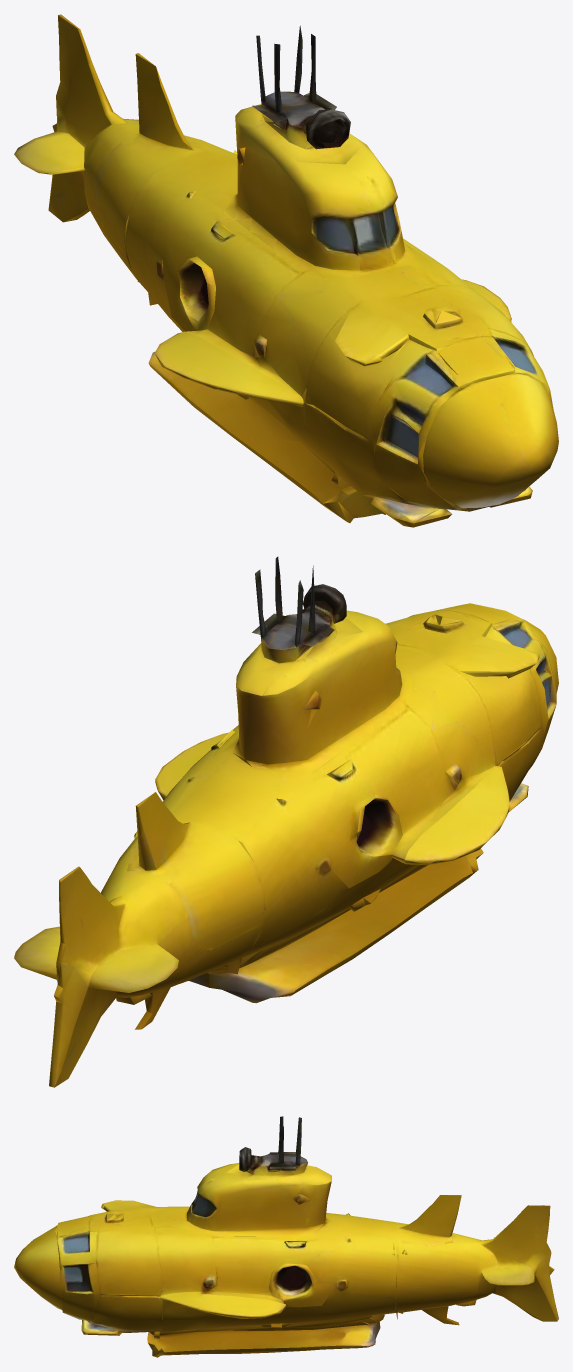
Rendered from miniSubmarine.glb.
3 views of the same model, one above another, from view 1: azimuth 30°, elevation 25°; view 2: azimuth 150°, elevation 25°; view 3: azimuth 270°, elevation 25° (orthographic). The views are drawn at different scales.
Visible parts, largest first — view 1: model; view 2: model; view 3: model.
Part boxes in pixels (x1,y1,x2,y2): model: [14, 14, 558, 527]; model: [14, 556, 558, 1087]; model: [14, 1116, 558, 1357].
Size of the model in its own units: 0.7358 by 0.8566 by 1.9.
Materials: 1 (1 with a texture image).
